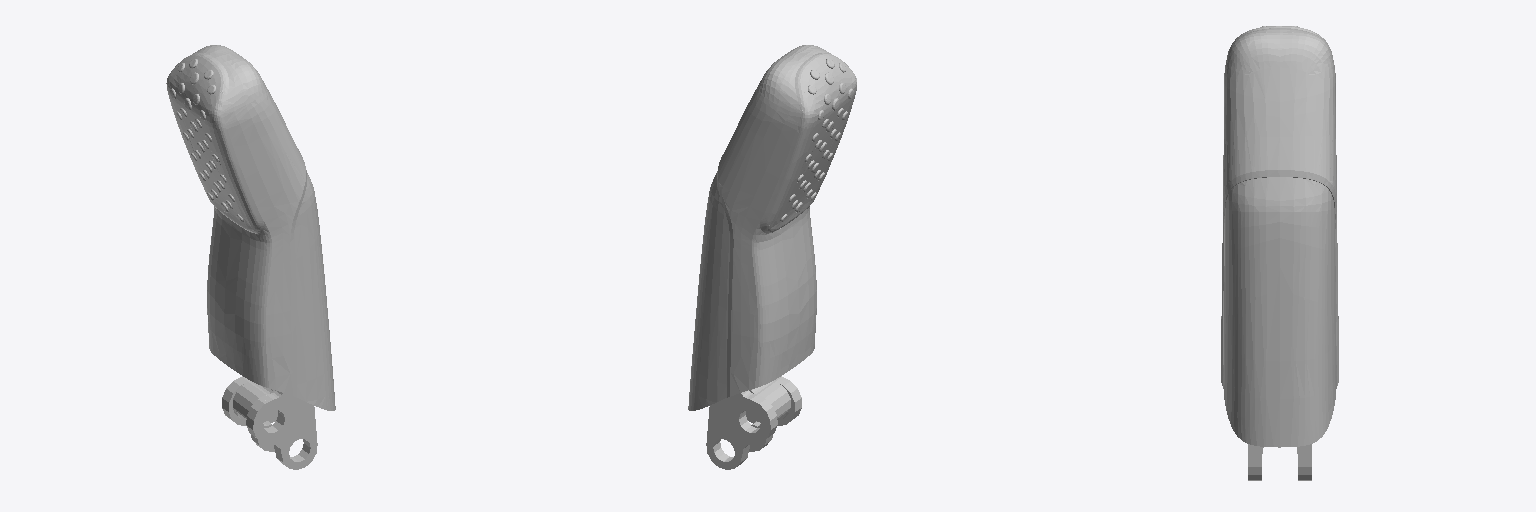
The model's file is right_middle_2_collisions.obj.
The picture shows the model from 3 angles: view 1: azimuth 30°, elevation 25°; view 2: azimuth 150°, elevation 25°; view 3: azimuth 270°, elevation 25°; orthographic projection.
Bounding box in the file's own units: 0.0229 × 0.0658 × 0.0168.